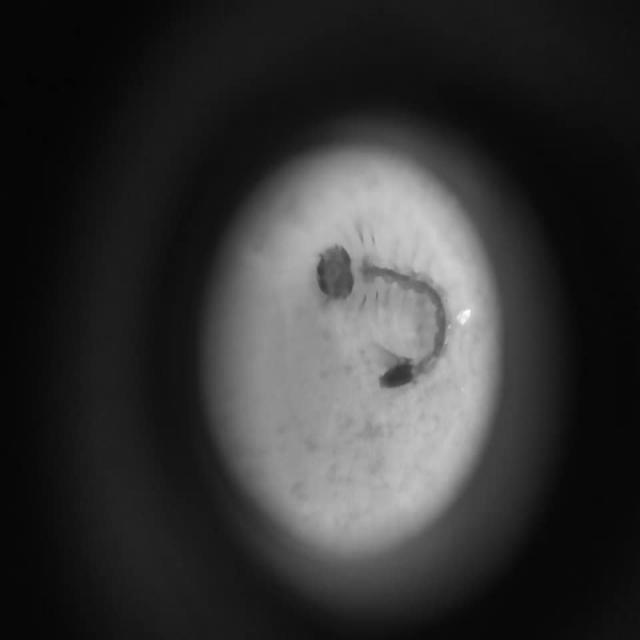larvas: (318, 242, 452, 388)
